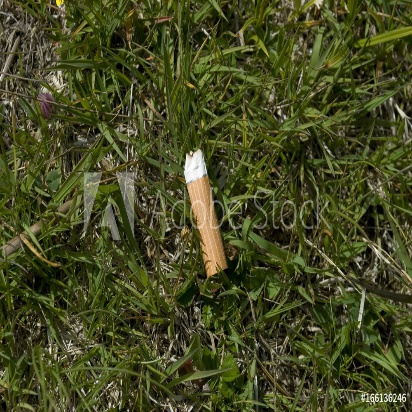cigarette: (177, 145, 228, 283)
